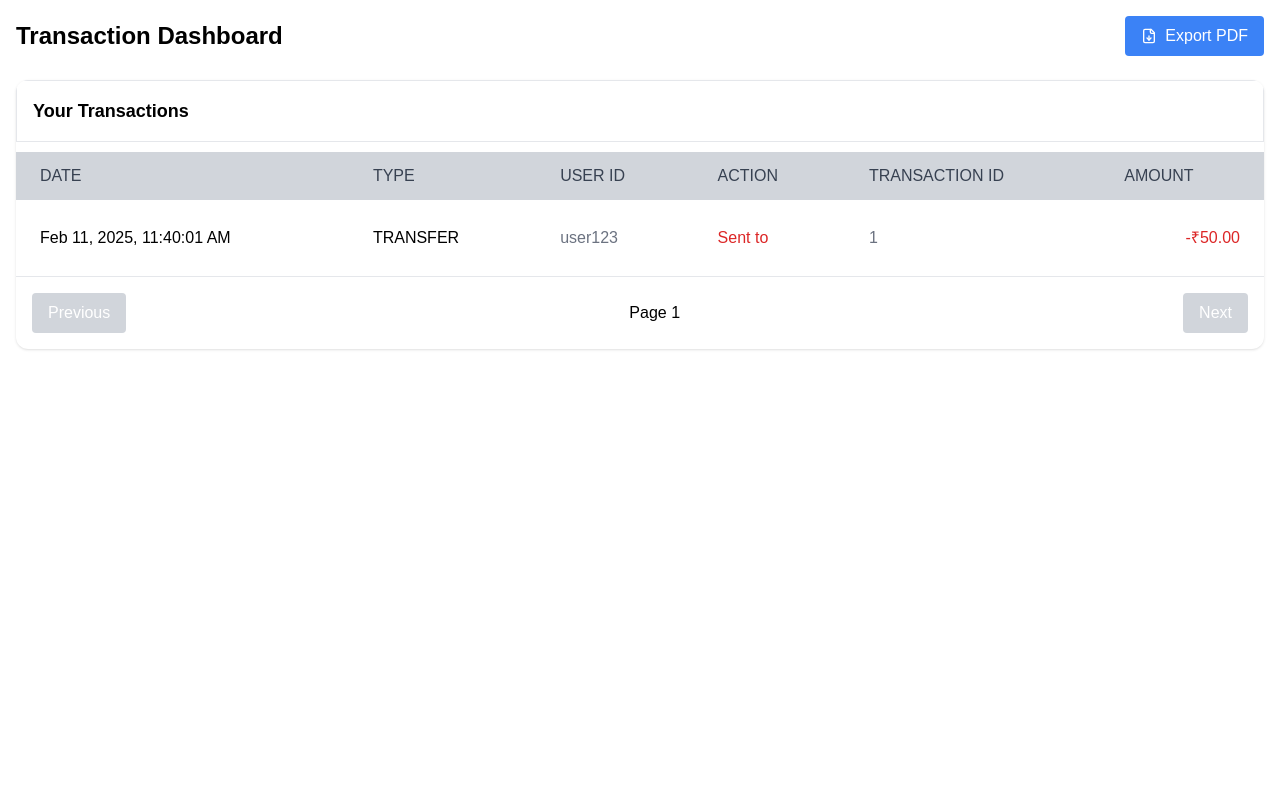
Test: TransactionsView Component › Transaction Modal Interactions › closes transaction details modal when close button is clicked
Click the row "Feb 11, 2025, 11:40:01 AM TRANSFER user123 Sent to 1 -₹50.00" at coordinates (640, 238), box [16, 210, 1264, 266]
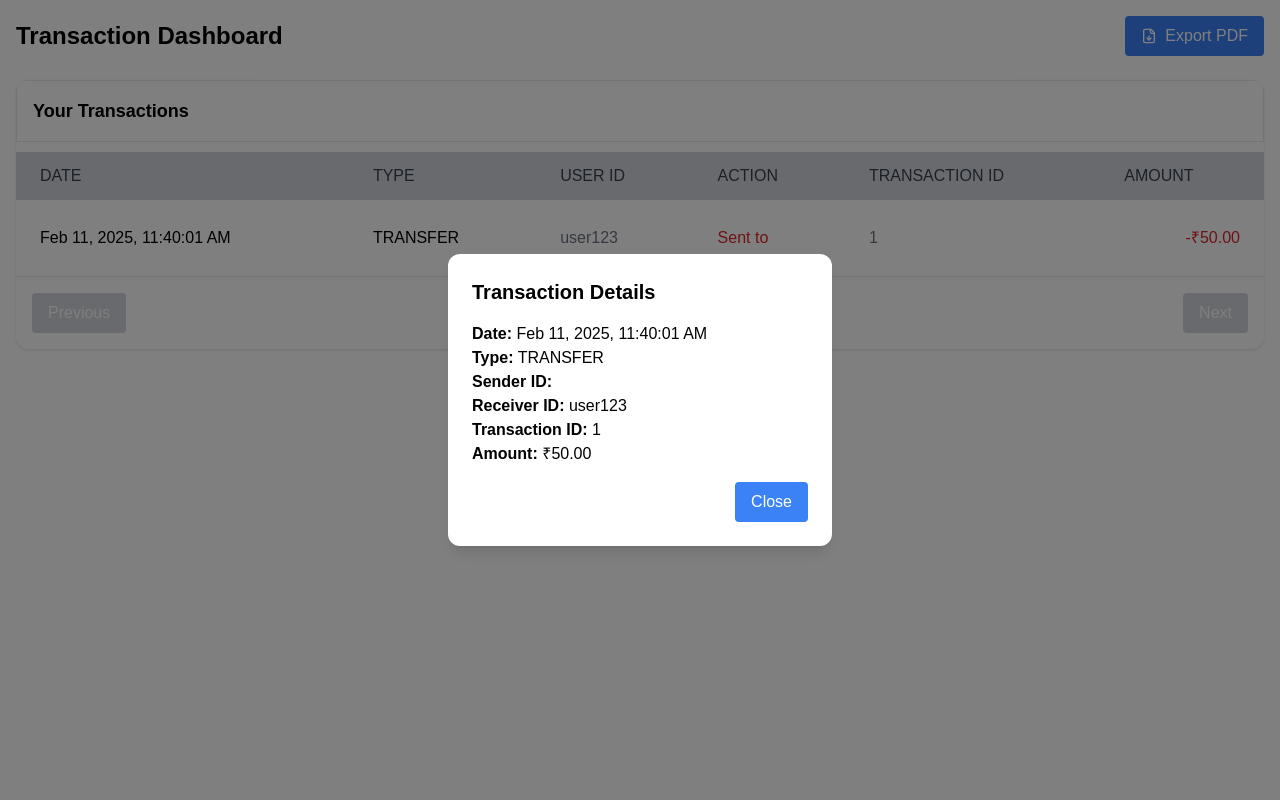
Result: the heading "Transaction Details" is shown at [472, 281, 655, 303]
Click the button "Close" at coordinates (772, 502), box [735, 482, 808, 522]
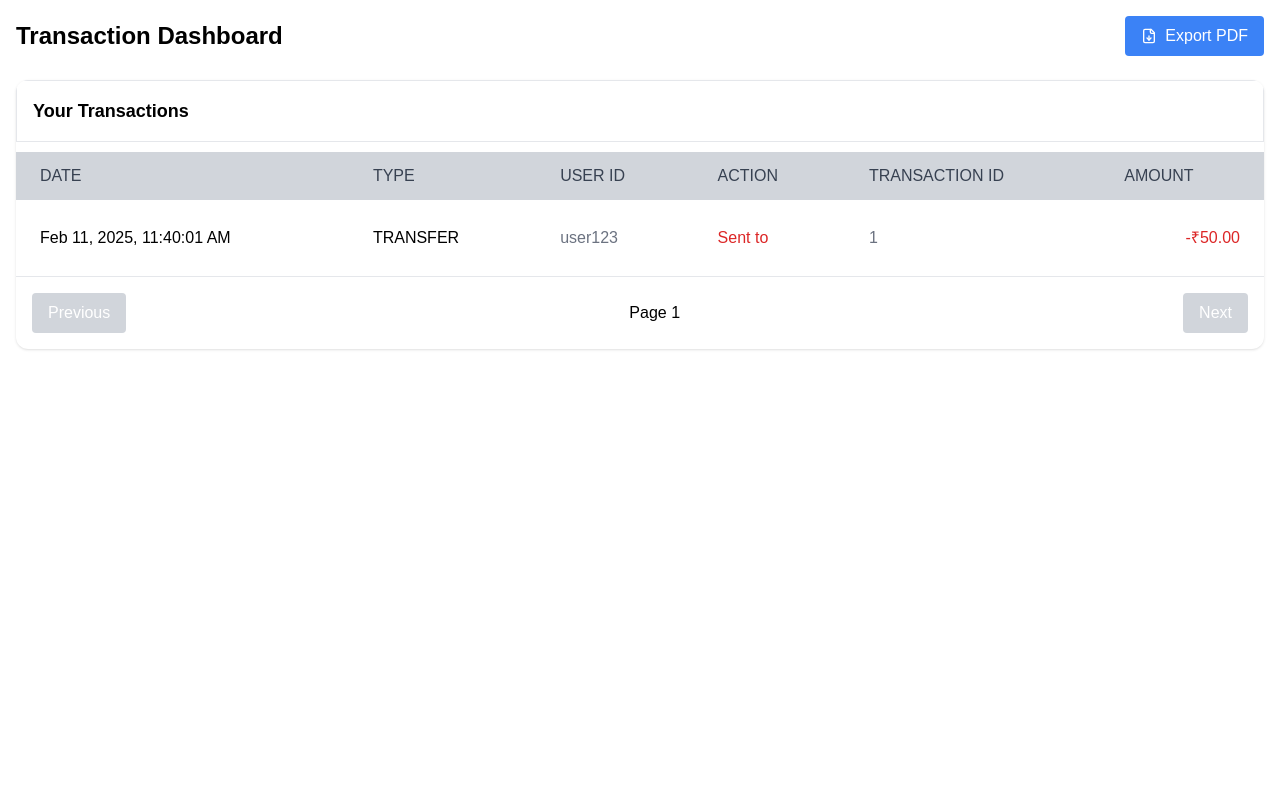
Result: the heading "Transaction Details" is gone
